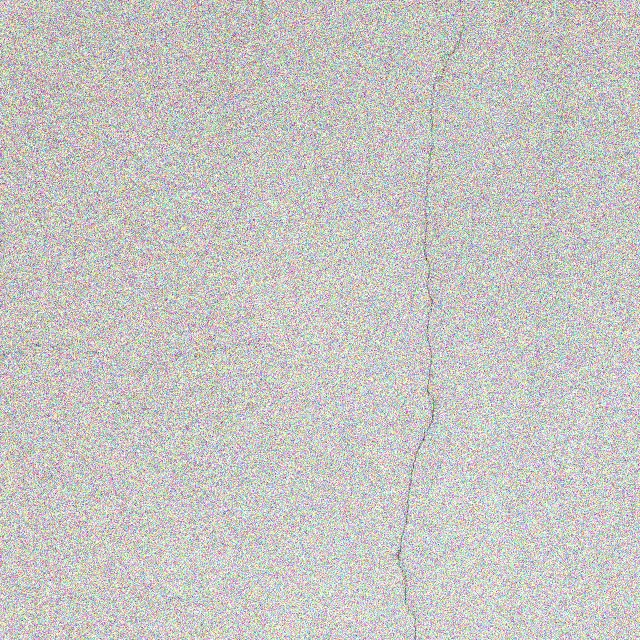SurfaceCrack: (351, 0, 514, 640), (0, 279, 624, 404)
